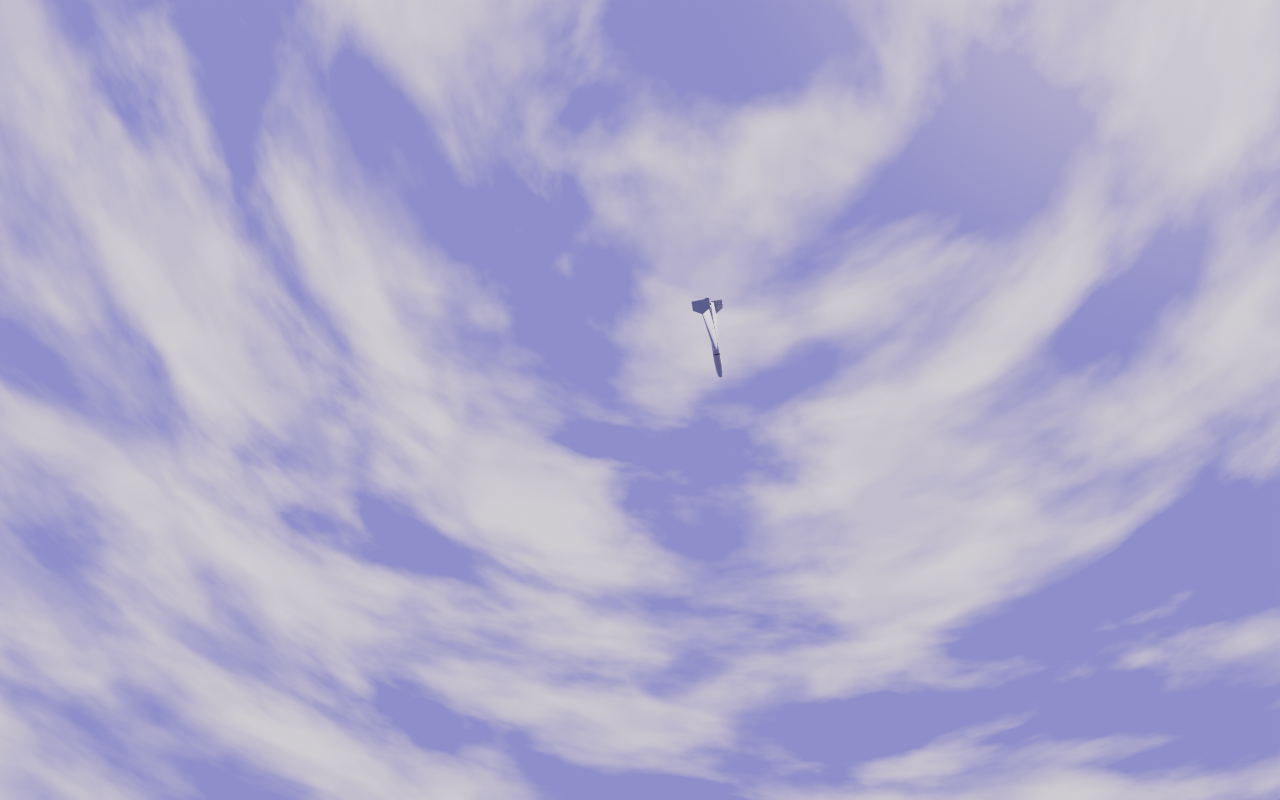shahed: (691, 298, 725, 379)
